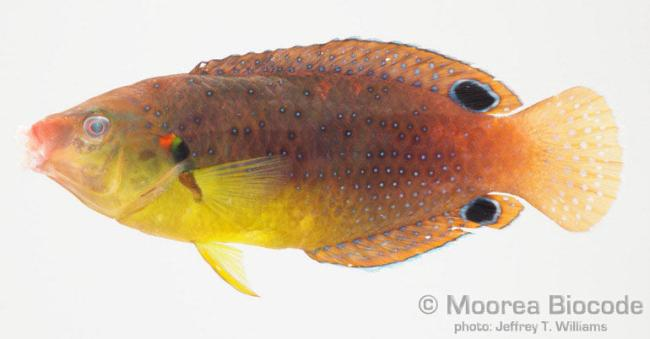fish: (26, 37, 623, 299)
